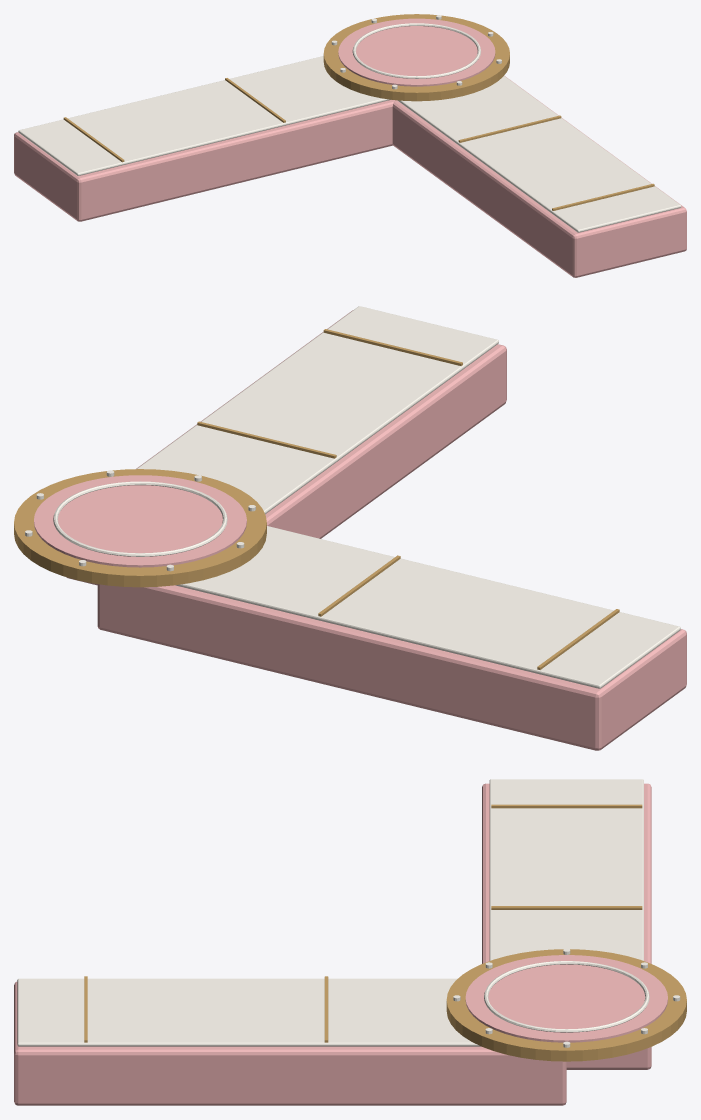
The model's file is bridge_pink.glb.
3 views of the same model, one above another, from view 1: azimuth 30°, elevation 25°; view 2: azimuth 150°, elevation 25°; view 3: azimuth 270°, elevation 25° (orthographic). The views are drawn at different scales.
Visible parts, largest first — view 1: West marble, West bridge, South marble, South bridge, Disc inlay, Disc rim, Disc fine line; view 2: West bridge, West marble, South marble, South bridge, Disc inlay, Disc rim, Disc fine line, Walking joint.001, Walking joint.003; view 3: South bridge, South marble, West marble, Disc inlay, Disc rim, West bridge, Disc fine line, Walking joint.002, Walking joint.
Part boxes in pixels (box(x1,y1,x2,y2)): West marble: box(18, 56, 390, 175); West bridge: box(14, 100, 396, 221); South marble: box(397, 76, 681, 232); South bridge: box(392, 76, 686, 277); Disc inlay: box(338, 18, 495, 86); Disc rim: box(323, 14, 509, 101); Disc fine line: box(352, 23, 481, 78); West bridge: box(97, 584, 686, 750); West marble: box(176, 526, 680, 688); South marble: box(136, 306, 498, 514); South bridge: box(66, 310, 506, 585); Disc inlay: box(34, 475, 246, 567); Disc rim: box(14, 469, 266, 587); Disc fine line: box(53, 481, 227, 556); Walking joint.001: box(197, 421, 336, 458); Walking joint.003: box(323, 329, 462, 365); South bridge: box(14, 981, 566, 1105); South marble: box(17, 978, 480, 1046); West marble: box(489, 779, 643, 960); Disc inlay: box(465, 955, 667, 1042); Disc rim: box(446, 949, 686, 1061); West bridge: box(482, 783, 651, 1069); Disc fine line: box(484, 961, 649, 1032); Walking joint.002: box(491, 804, 642, 808); Walking joint: box(491, 906, 642, 909).
Bounding box in the file's own units: 3.92 × 0.491 × 3.92.
